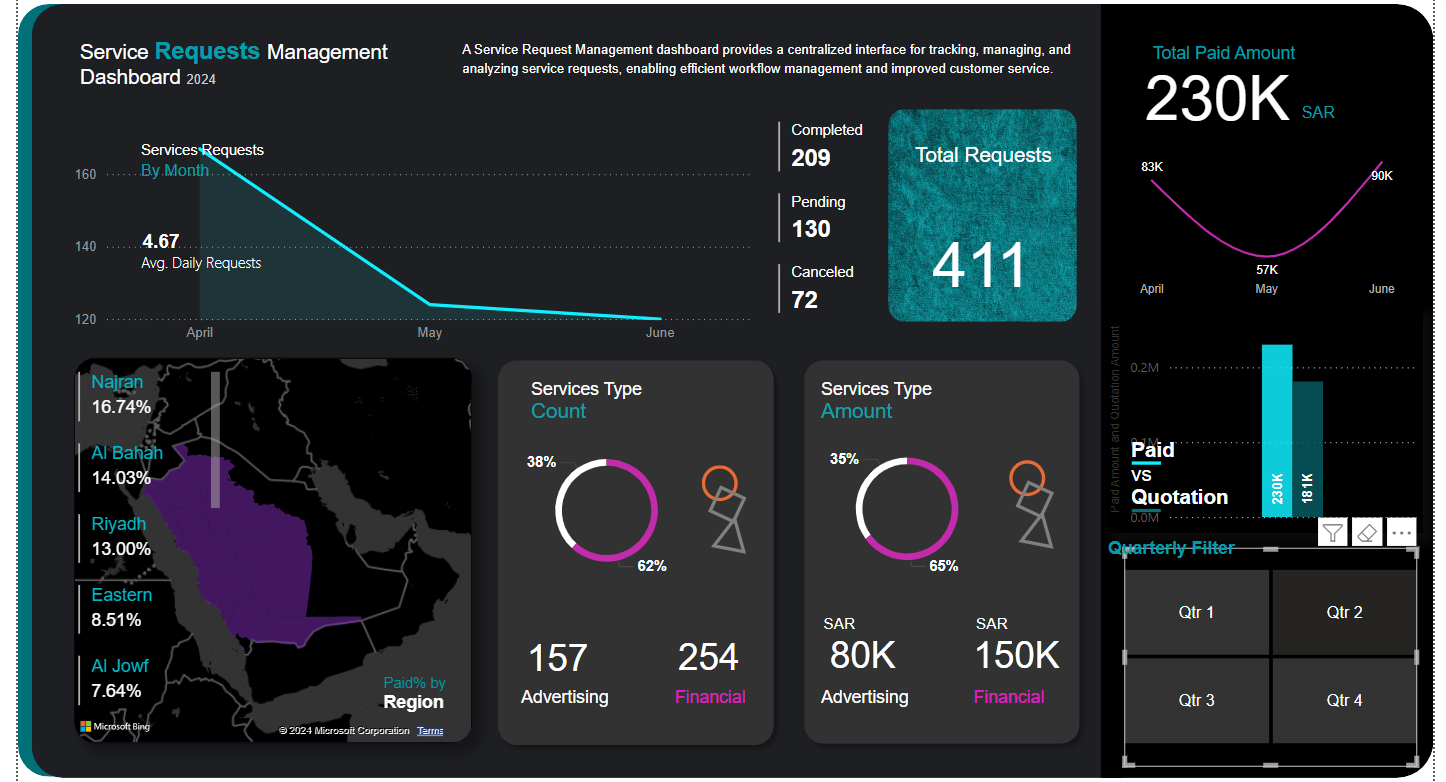

What the dashboard file says about the page in this screenshot:
{"tool":"powerbi","page":{"name":"Page 1","canvas":[1280,720],"ordinal":0},"visuals":[{"type":"shape","box":[0,9,999,699],"z":0},{"type":"shape","box":[702.3,322.1,267.1,365],"z":0,"group":"g1"},{"type":"shape","box":[896.5,422.3,32.6,32.6],"z":0,"group":"g2"},{"type":"shape","box":[618.4,426.7,32.6,32.6],"z":0,"group":"g3"},{"type":"shape","box":[12.8,9.3,986,700],"z":1000},{"type":"donutChart","fields":{"Category":["Service_Type.Service Type"],"Y":["Sum(Request_Status.Paid Amount)"]},"box":[720.6,393.9,168.3,144.8],"z":1000,"group":"g1"},{"type":"shape","box":[902.3,440.9,34.9,34.9],"z":1000,"group":"g2"},{"type":"shape","box":[624.2,445.3,34.9,34.9],"z":1000,"group":"g3"},{"type":"shape","box":[978.8,8.5,301.2,700],"z":2000},{"type":"textbox","box":[721.1,344,158.1,55.7],"z":2000,"group":"g1"},{"type":"shape","box":[903.5,467.6,34.9,34.9],"z":2000,"group":"g2"},{"type":"shape","box":[625.4,472,34.9,34.9],"z":2000,"group":"g3"},{"type":"textbox","box":[51.2,34.9,308.1,57],"z":3000},{"type":"card","fields":{"Values":["Service_Type.Advertising Paid Amount"]},"box":[691.9,554.7,144.2,84.7],"z":3000,"group":"g1"},{"type":"lineChart","fields":{"Category":["Locations.Date.Variation.Date Hierarchy.Month"],"Y":["CountNonNull(Locations.Request Number)"]},"box":[45.2,116.5,624.1,205.8],"z":4000},{"type":"card","fields":{"Values":["Service_Type.Financial Paid Amount"]},"box":[830.5,554.7,144.2,84.7],"z":4000,"group":"g1"},{"type":"textbox","box":[105.8,126.7,184.9,50],"z":5000},{"type":"textbox","box":[721,622.2,102.3,47.6],"z":5000,"group":"g1"},{"type":"textbox","box":[859.3,621.9,102.3,47.6],"z":6000,"group":"g1"},{"type":"textbox","box":[448.8,622.1,102.3,47.7],"z":6000},{"type":"card","fields":{"Values":["Locations.Avg. of Daily Requests"]},"box":[70,177,119,96],"z":7000},{"type":"textbox","box":[723.3,554.7,102.3,47.6],"z":7000,"group":"g1"},{"type":"textbox","box":[106.3,228.4,183.2,45.2],"z":8000},{"type":"textbox","box":[861.7,554.7,102.3,47.6],"z":8000,"group":"g1"},{"type":"multiRowCard","fields":{"Values":["Request_Status.Request Number","Request_Status.Request Status"]},"box":[683,111,132,208],"z":9000},{"type":"image","box":[782.6,100,180.2,202],"z":10000},{"type":"textbox","box":[781.4,130.2,183.7,37.2],"z":11000},{"type":"card","fields":{"Values":["CountNonNull(Request_Status.Request Number)"]},"box":[759.3,179.1,224.4,125.6],"z":12000},{"type":"textbox","box":[998.8,39.5,184.9,50],"z":13000},{"type":"card","fields":{"Values":["Sum(Request_Status.Paid Amount)"]},"box":[939,50,293,80],"z":14000},{"type":"textbox","box":[1120.9,93,111.6,36],"z":15000},{"type":"lineChart","fields":{"Category":["Locations.Date.Variation.Date Hierarchy.Month"],"Y":["Sum(Request_Status.Paid Amount)"]},"box":[979.1,138.4,301.2,144.2],"z":16000},{"type":"clusteredColumnChart","fields":{"Y":["Sum(Request_Status.Paid Amount)","Sum(Request_Status.Quotation Amount)"]},"box":[983.7,282.6,287.2,204.7],"z":17000},{"type":"textbox","box":[1002.3,396.5,167.4,79.1],"z":18000},{"type":"shape","box":[1007,414,26.7,20.9],"z":19000},{"type":"shape","box":[1007,457,26.7,20.9],"z":20000},{"type":"filledMap","fields":{"Category":["Locations.Province"]},"box":[50.6,329,360,349],"z":21000},{"type":"textbox","box":[325.7,608.4,85,47.9],"z":22000},{"type":"shape","box":[425.6,322.1,267.4,366.3],"z":23000},{"type":"group","id":"g1","title":"Group 1","box":[691.9,322.1,282.8,365],"z":24000},{"type":"card","fields":{"Values":["Service_Type.Financial Count"]},"box":[552.5,555.8,144.2,84.9],"z":25000},{"type":"textbox","box":[459.3,344.2,158.1,52.3],"z":26000},{"type":"card","fields":{"Values":["Service_Type.Advertising Count"]},"box":[416.3,557,144.2,84.9],"z":27000},{"type":"donutChart","fields":{"Category":["Service_Type.Service Type"],"Y":["CountNonNull(Service_Type.Request Number)"]},"box":[448.8,394.2,167.4,145.3],"z":28000},{"type":"textbox","box":[589.5,622.1,102.3,47.7],"z":29000},{"type":"textbox","box":[450,622.1,102.3,47.7],"z":30000},{"type":"advancedSlicerVisual","fields":{"Values":["Locations.Date.Variation.Date Hierarchy.Quarter"]},"box":[1001.2,501.2,265.1,197.7],"z":31000},{"type":"multiRowCard","fields":{"Values":["Locations.Province","Sum(Service_Type.Paid Amount)"]},"box":[50.3,336.5,137.7,319.8],"z":32000},{"type":"textbox","box":[986,492,187.2,39.5],"z":33000},{"type":"group","id":"g2","title":"Group 2","box":[896.5,422.3,41.9,80.2],"z":34000},{"type":"group","id":"g3","title":"Group 2","box":[618.4,426.7,41.9,80.2],"z":35000},{"type":"textbox","box":[431.9,35.1,474.9,79.1],"z":36000}]}

Visuals, with their boxes on the page's 1280x720 design canvas (x1, y1, x2, y2). These are canvas units, not pixel positions in the 1446x782 screenshot, which may show the page scaled, cropped or inside an application window:
shape: crop(0, 9, 999, 708)
shape: crop(702, 322, 969, 687)
shape: crop(896, 422, 929, 455)
shape: crop(618, 427, 651, 459)
shape: crop(13, 9, 999, 709)
donutChart - Service_Type.Service Type x Sum(Request_Status.Paid Amount): crop(721, 394, 889, 539)
shape: crop(902, 441, 937, 476)
shape: crop(624, 445, 659, 480)
shape: crop(979, 8, 1280, 708)
textbox: crop(721, 344, 879, 400)
shape: crop(904, 468, 938, 502)
shape: crop(625, 472, 660, 507)
textbox: crop(51, 35, 359, 92)
card - Service_Type.Advertising Paid Amount: crop(692, 555, 836, 639)
lineChart - Locations.Date.Variation.Date Hierarchy.Month x CountNonNull(Locations.Request Number): crop(45, 116, 669, 322)
card - Service_Type.Financial Paid Amount: crop(830, 555, 975, 639)
textbox: crop(106, 127, 291, 177)
textbox: crop(721, 622, 823, 670)
textbox: crop(859, 622, 962, 670)
textbox: crop(449, 622, 551, 670)
card - Locations.Avg. of Daily Requests: crop(70, 177, 189, 273)
textbox: crop(723, 555, 826, 602)
textbox: crop(106, 228, 290, 274)
textbox: crop(862, 555, 964, 602)
multiRowCard - Request_Status.Request Number x Request_Status.Request Status: crop(683, 111, 815, 319)
image: crop(783, 100, 963, 302)
textbox: crop(781, 130, 965, 167)
card - CountNonNull(Request_Status.Request Number): crop(759, 179, 984, 305)
textbox: crop(999, 40, 1184, 90)
card - Sum(Request_Status.Paid Amount): crop(939, 50, 1232, 130)
textbox: crop(1121, 93, 1232, 129)
lineChart - Locations.Date.Variation.Date Hierarchy.Month x Sum(Request_Status.Paid Amount): crop(979, 138, 1280, 283)
clusteredColumnChart - Sum(Request_Status.Paid Amount) x Sum(Request_Status.Quotation Amount): crop(984, 283, 1271, 487)
textbox: crop(1002, 396, 1170, 476)
shape: crop(1007, 414, 1034, 435)
shape: crop(1007, 457, 1034, 478)
filledMap - Locations.Province: crop(51, 329, 411, 678)
textbox: crop(326, 608, 411, 656)
shape: crop(426, 322, 693, 688)
"Group 1" group: crop(692, 322, 975, 687)
card - Service_Type.Financial Count: crop(552, 556, 697, 641)
textbox: crop(459, 344, 617, 396)
card - Service_Type.Advertising Count: crop(416, 557, 560, 642)
donutChart - Service_Type.Service Type x CountNonNull(Service_Type.Request Number): crop(449, 394, 616, 540)
textbox: crop(590, 622, 692, 670)
textbox: crop(450, 622, 552, 670)
advancedSlicerVisual - Locations.Date.Variation.Date Hierarchy.Quarter: crop(1001, 501, 1266, 699)
multiRowCard - Locations.Province x Sum(Service_Type.Paid Amount): crop(50, 336, 188, 656)
textbox: crop(986, 492, 1173, 532)
"Group 2" group: crop(896, 422, 938, 502)
"Group 2" group: crop(618, 427, 660, 507)
textbox: crop(432, 35, 907, 114)
